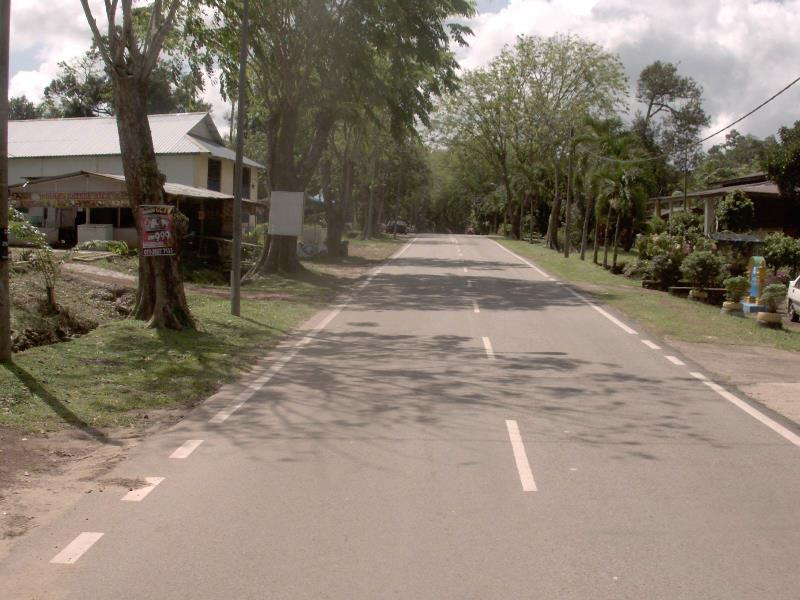ads_sign: (131, 195, 183, 266)
